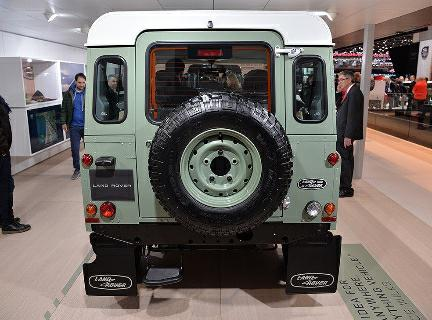路虎-卫士: (78, 8, 345, 306)
